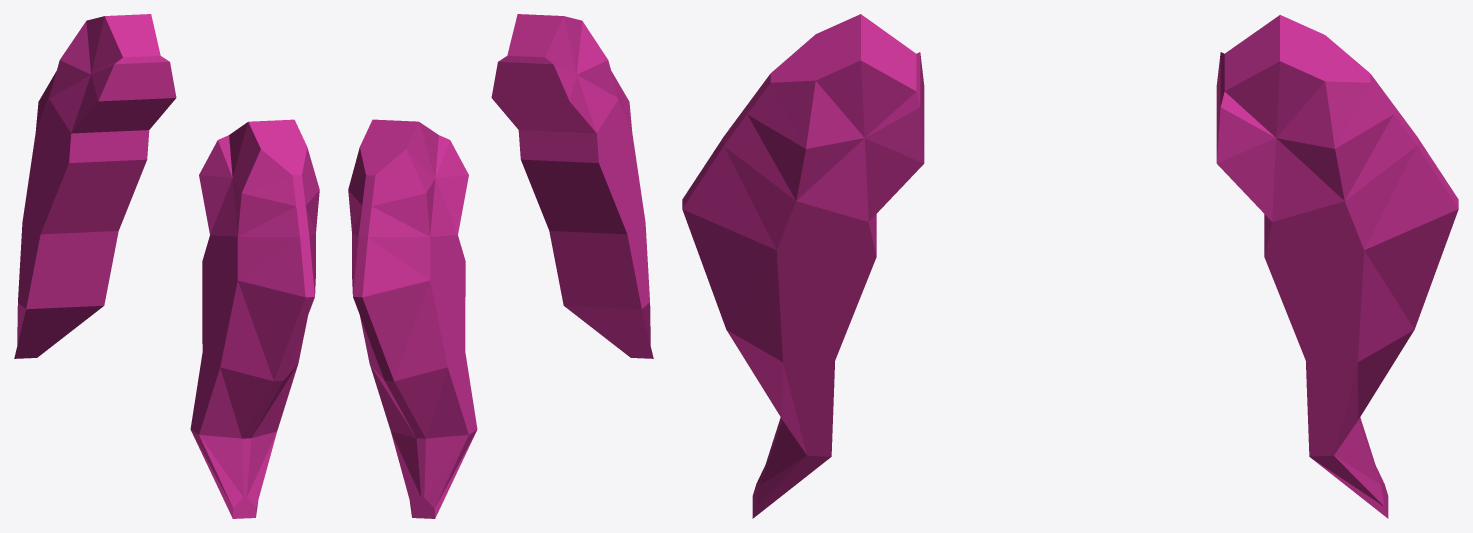
Rendered from Twin.obj.
The picture shows the model from 3 angles, left to right: view 1: azimuth 30°, elevation 25°; view 2: azimuth 150°, elevation 25°; view 3: azimuth 270°, elevation 25°; orthographic projection. The views are drawn at different scales.
Parts seen in each view (by area): view 1: 頭.003, 頭.002; view 2: 頭.002, 頭.003; view 3: 頭.003, 頭.002.
Boxes of the visible parts, x1,y1,x2,y2 form: 頭.003: (190,119,319,518); 頭.002: (14,14,176,358); 頭.002: (348,119,477,518); 頭.003: (491,14,653,358); 頭.003: (682,14,924,518); 頭.002: (1216,15,1458,518).
Bounding box in the file's own units: 0.9681 × 2.78 × 3.72.
